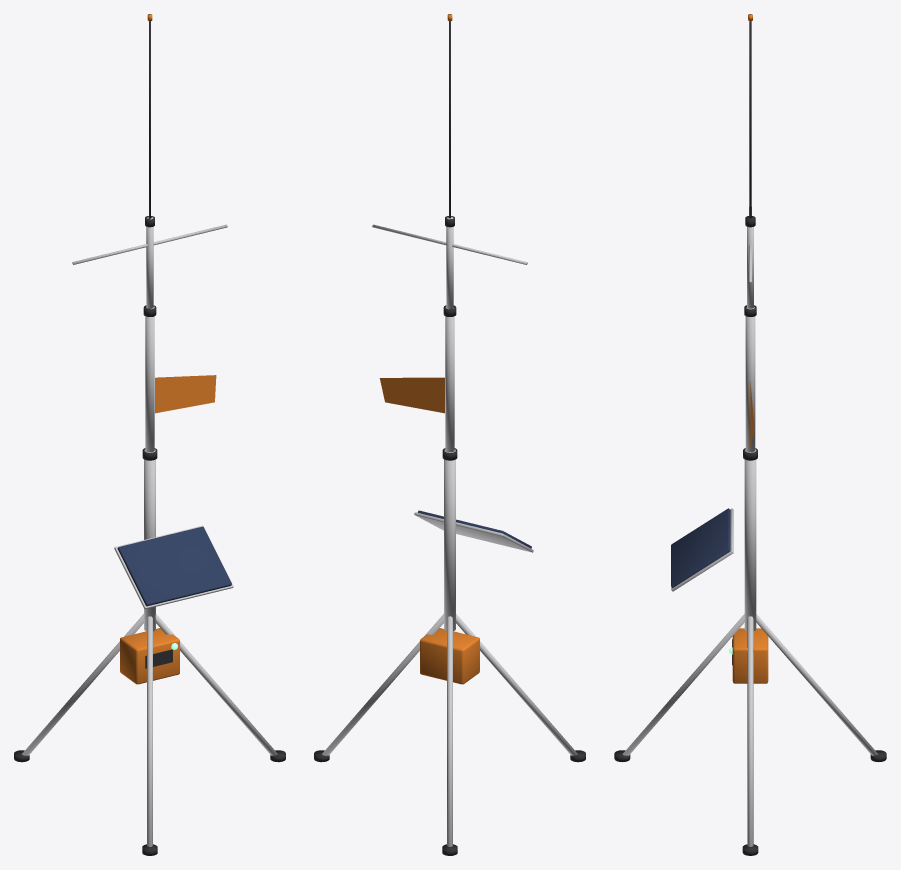
File: antenna.glb
The picture shows the model from 3 angles, left to right: view 1: azimuth 30°, elevation 25°; view 2: azimuth 150°, elevation 25°; view 3: azimuth 270°, elevation 25°; orthographic projection.
Visible parts, largest first — view 1: antenna; view 2: antenna; view 3: antenna.
Part boxes in pixels (<box>): antenna: <box>14,14,285,855</box>; antenna: <box>314,14,585,855</box>; antenna: <box>614,14,886,855</box>.
Size of the model in its own units: 1.24 by 4.34 by 1.38.
